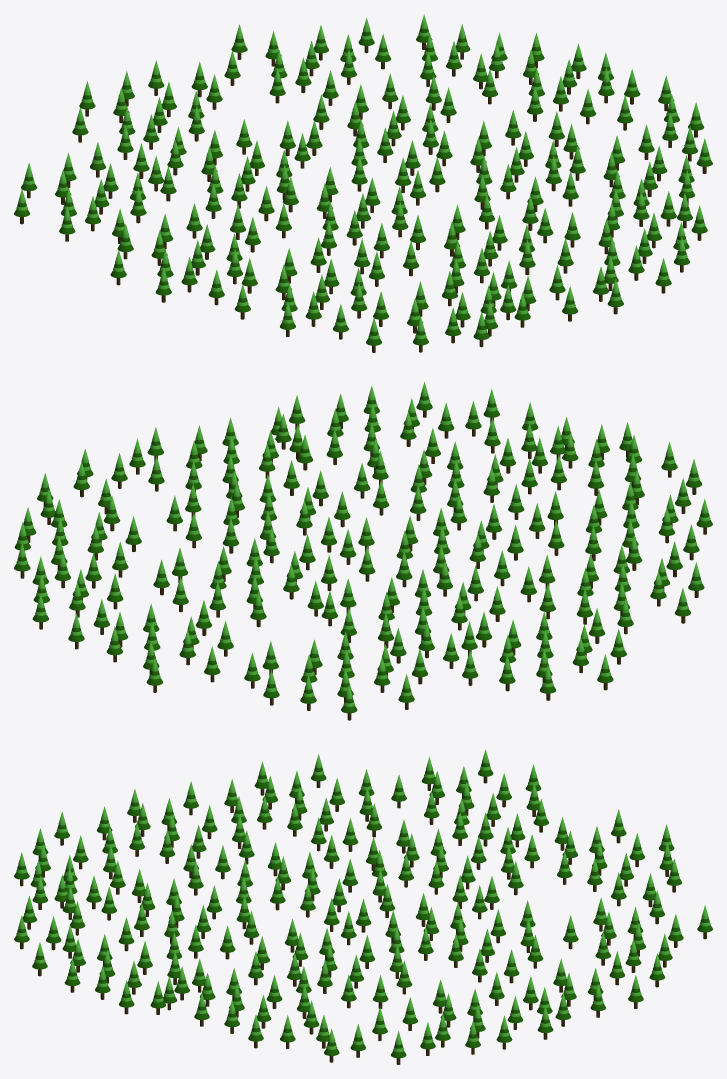
File: trees.fbx
3 renders of one model, top to bottom at view 1: azimuth 30°, elevation 25°; view 2: azimuth 150°, elevation 25°; view 3: azimuth 270°, elevation 25°, orthographic. The views are drawn at different scales.
Visible parts, largest first — view 1: Tree; view 2: Tree; view 3: Tree.
Part boxes in pixels (left/top/right/bottom): Tree: left=14, top=14, right=712, bottom=352; Tree: left=14, top=382, right=712, bottom=720; Tree: left=14, top=749, right=712, bottom=1064.
Size of the model in its own units: 376 by 20.59 by 385.
